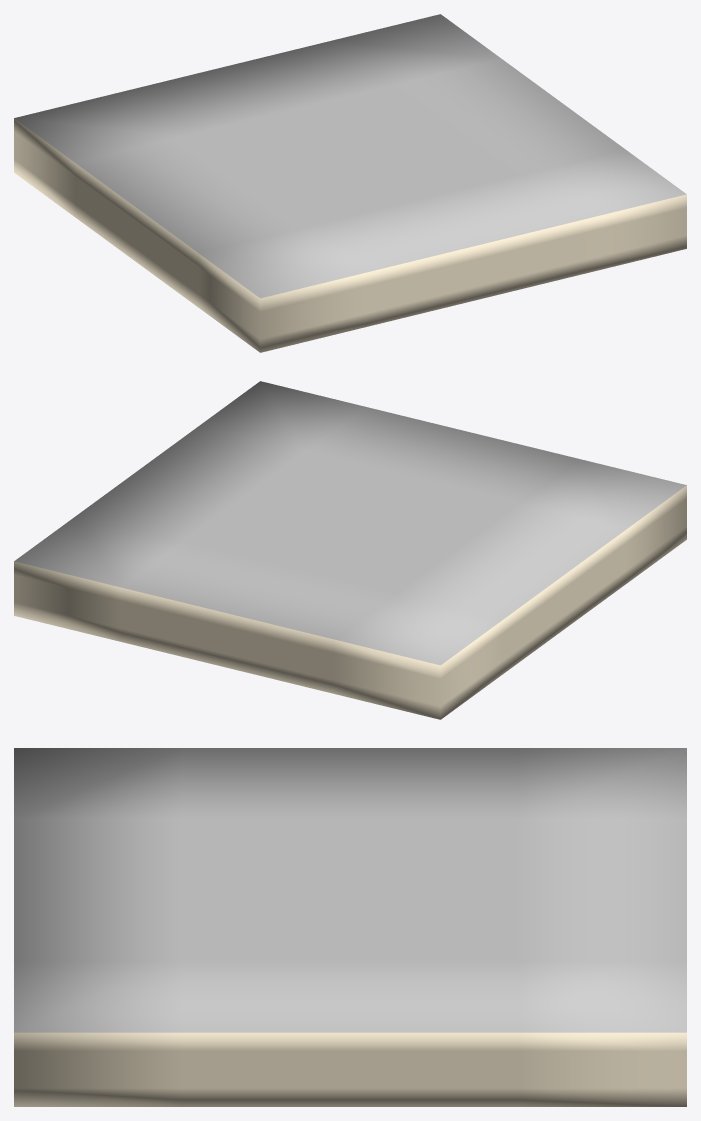
File: room.fbx
The picture shows the model from 3 angles, top to bottom: view 1: azimuth 30°, elevation 25°; view 2: azimuth 150°, elevation 25°; view 3: azimuth 270°, elevation 25°; orthographic projection. The views are drawn at different scales.
Visible parts, largest first — view 1: Room; view 2: Room; view 3: Room.
Boxes of the visible parts, x1=… form: Room: x1=14, y1=14, x2=686, y2=352; Room: x1=14, y1=381, x2=686, y2=719; Room: x1=14, y1=748, x2=686, y2=1106.
Size of the model in its own units: 20 by 2.44 by 20.
